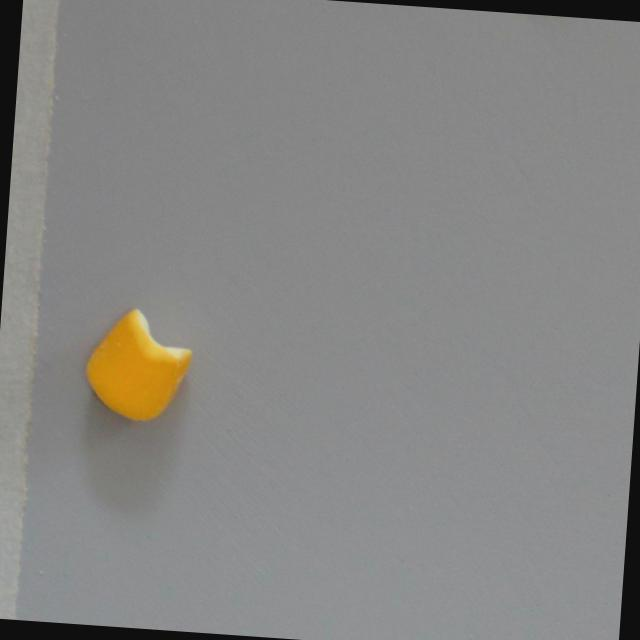no_canjicado: (79, 307, 195, 426)
